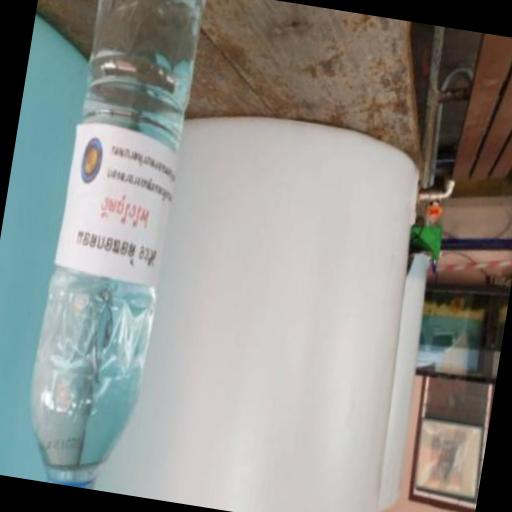Coca: (12, 0, 211, 495)
